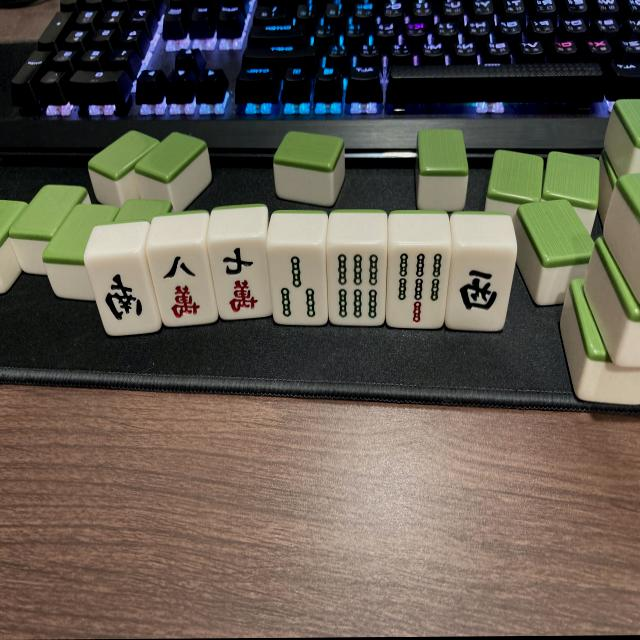m7: (210, 241, 273, 320)
m8: (149, 247, 219, 329)
s3: (268, 248, 326, 324)
s6: (326, 248, 385, 326)
s7: (388, 248, 447, 327)
south: (88, 253, 160, 337)
west: (447, 251, 512, 332)
